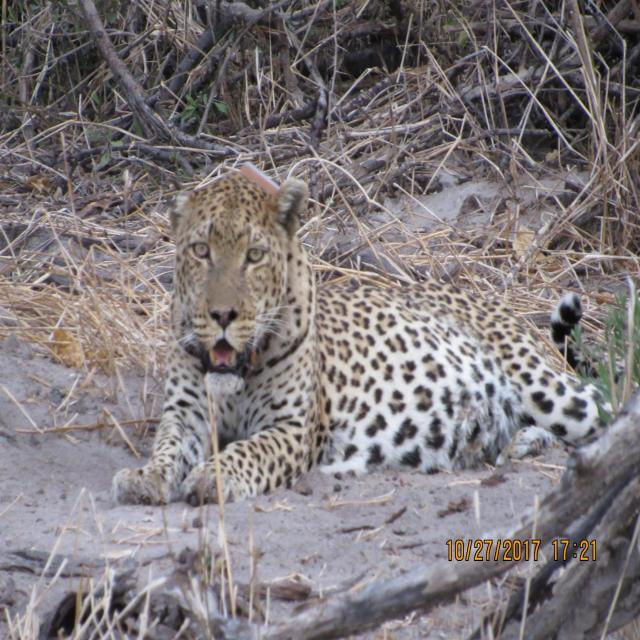Leopard: (101, 167, 624, 509)
